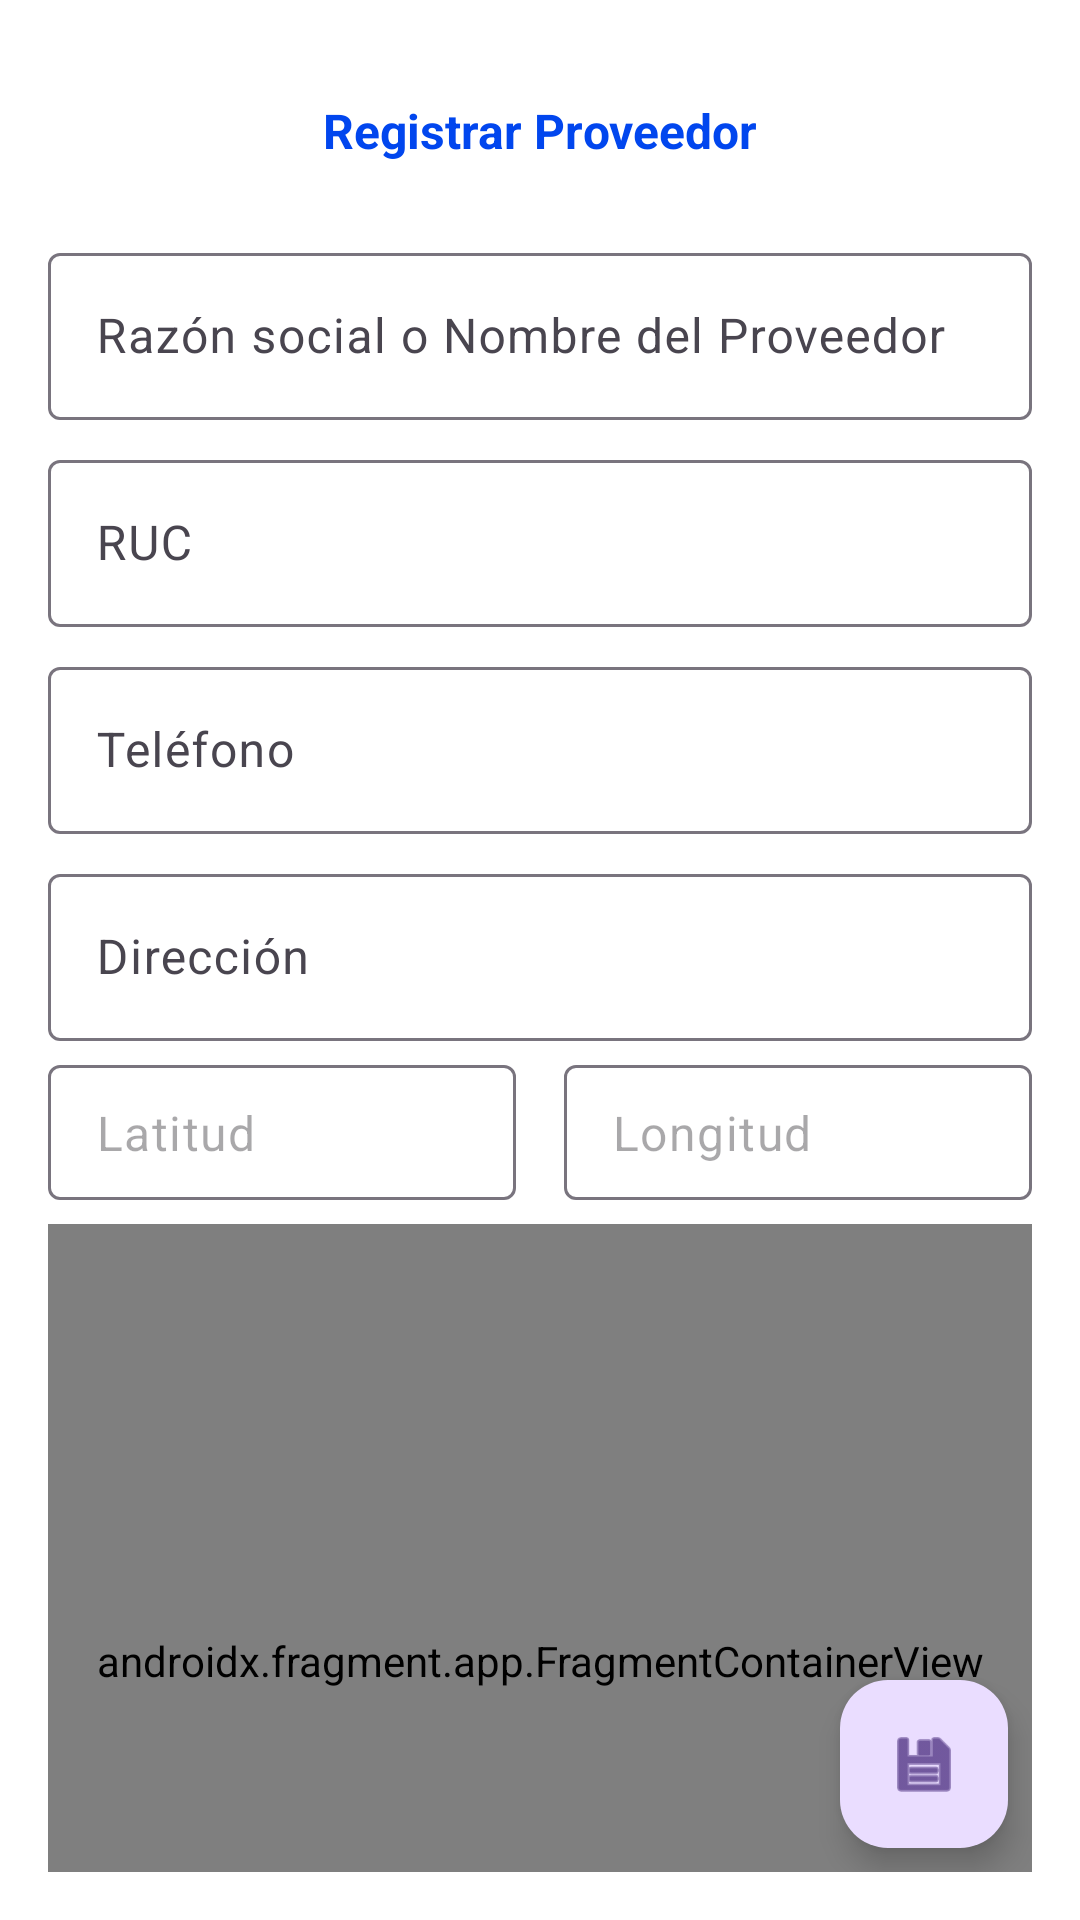

Where to tap for icons on this 1080px×1920px app screen, as point (x, y):
Guardar Proveedor: point (924, 1764)
